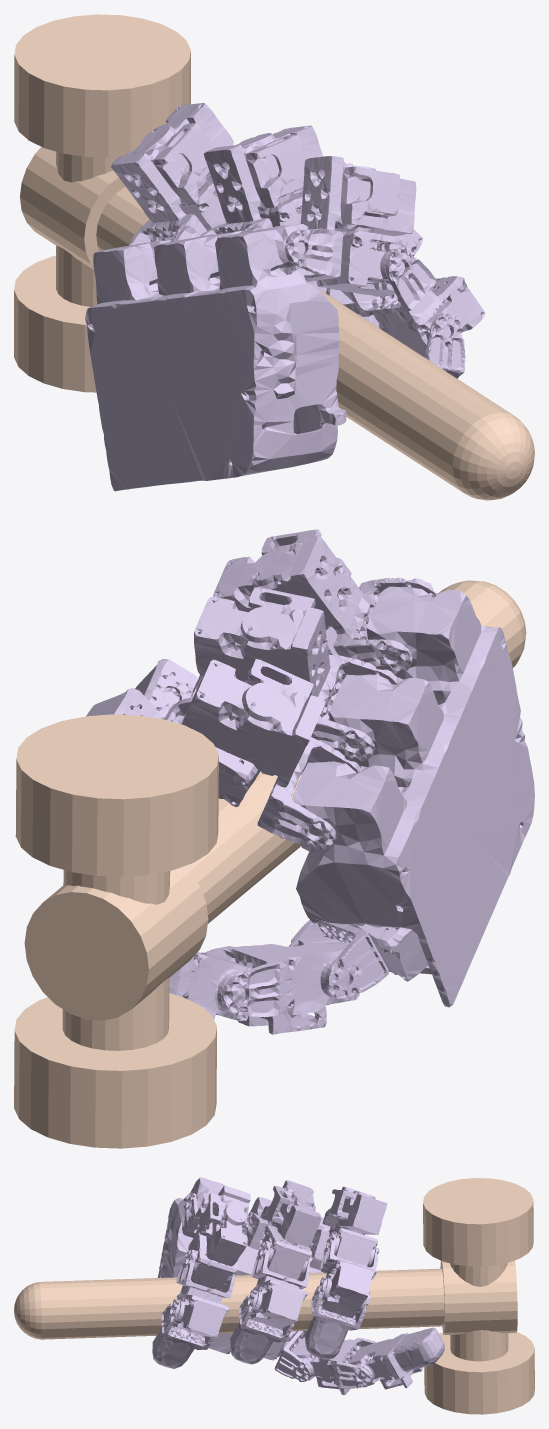
The picture shows the model from 3 angles, top to bottom: view 1: azimuth 30°, elevation 25°; view 2: azimuth 150°, elevation 25°; view 3: azimuth 270°, elevation 25°; orthographic projection. The views are drawn at different scales.
Visible parts, largest first — view 1: LEAP_hand, world; view 2: LEAP_hand, world; view 3: LEAP_hand, world.
Part boxes in pixels (x1,y1,x2,y2): LEAP_hand: (85,103,485,491); world: (14,14,534,500); LEAP_hand: (86,529,534,1034); world: (14,580,526,1148); LEAP_hand: (152,1177,444,1394); world: (14,1178,534,1414).
Size of the model in its own units: 0.1451 by 0.1658 by 0.3578.
